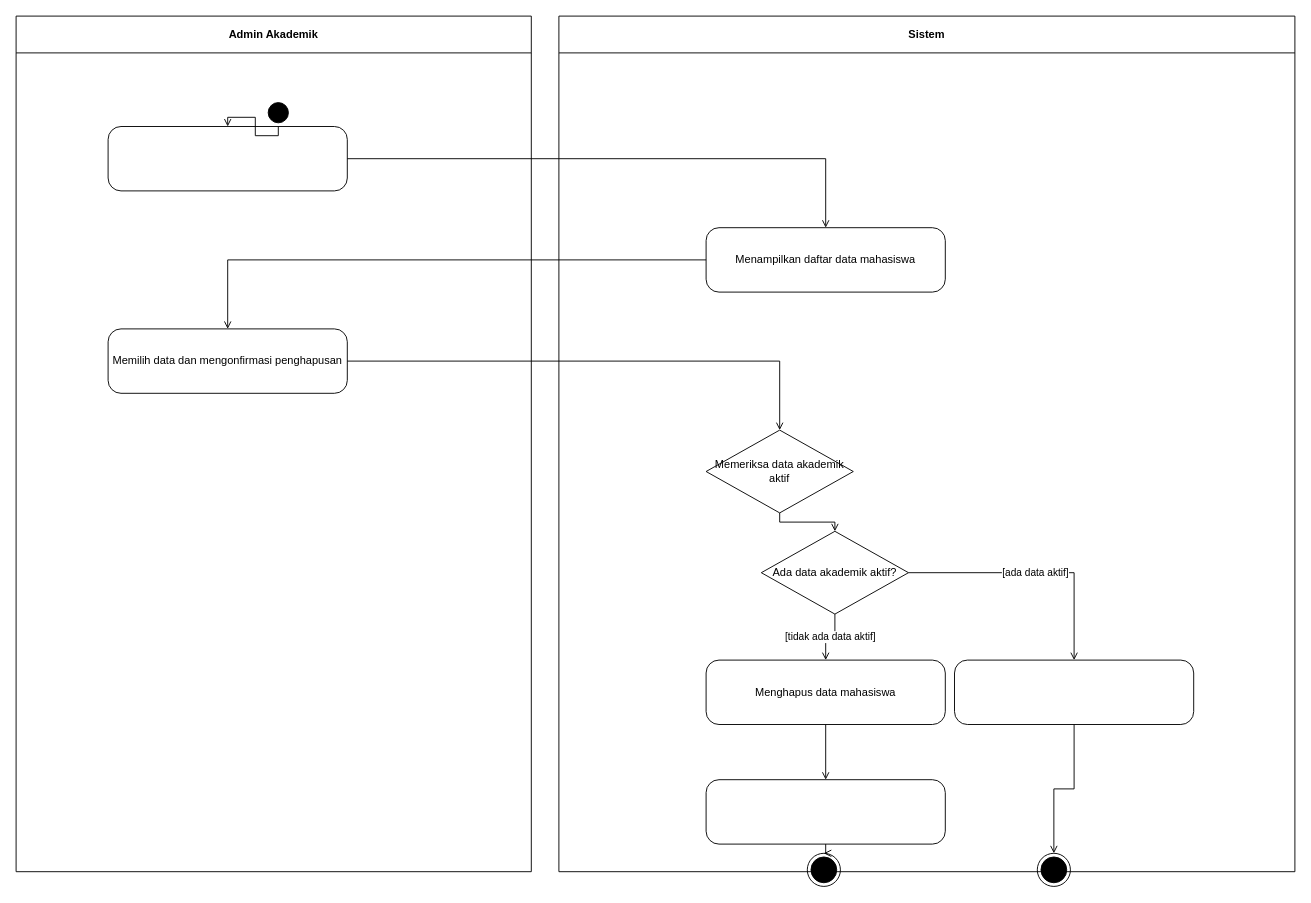
This 1311x903 diagram has some shape labels left out. The shapes that lost their labels are listed below. From the top down, each one's centre as x and y in pixels, then its label:
At (227,158): "Memilih Hapus pada Kelola Data Mahasiswa".
At (1074,691): "Menolak penghapusan dan menampilkan alasan".
At (825,811): "Menampilkan konfirmasi data terhapus".
